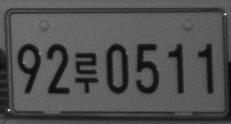0: (105, 42, 129, 95)
1: (165, 42, 191, 94), (195, 42, 220, 94)
2: (45, 43, 70, 94)
5: (135, 43, 159, 94)
9: (16, 42, 41, 94)
루: (74, 51, 98, 94)
